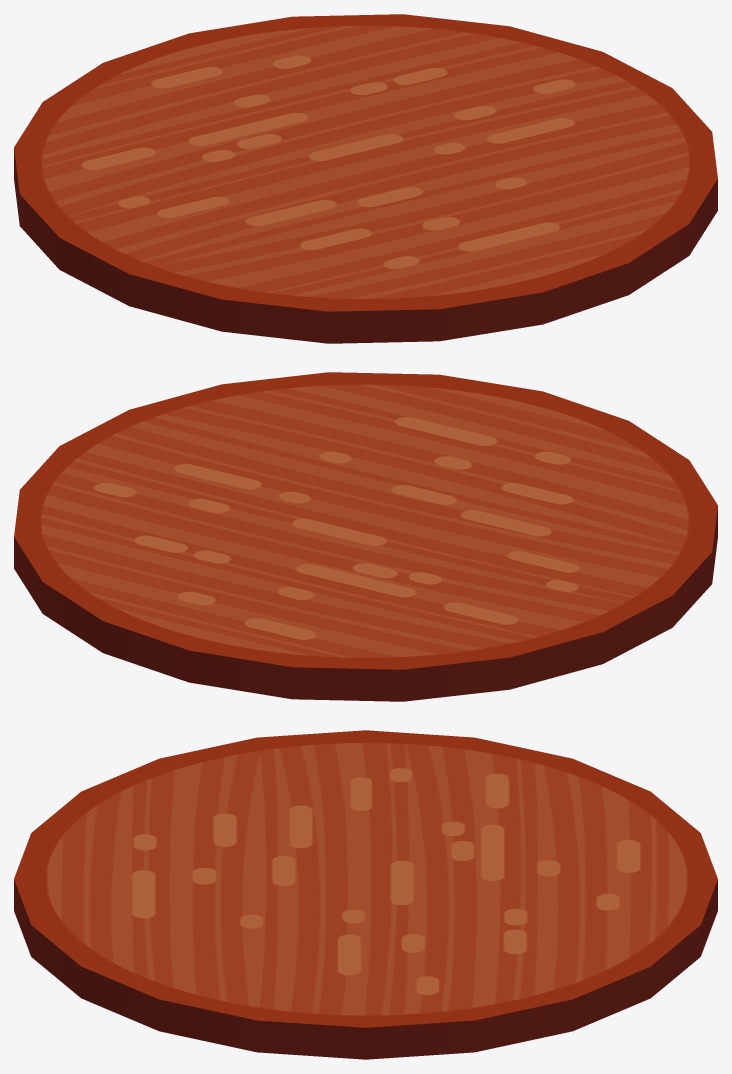
File: Roast_Slice_Roast_0.glb
3 renders of one model, top to bottom at view 1: azimuth 30°, elevation 25°; view 2: azimuth 150°, elevation 25°; view 3: azimuth 270°, elevation 25°, orthographic.
Parts seen in each view (by area): view 1: Roast_Slice_Roast_0; view 2: Roast_Slice_Roast_0; view 3: Roast_Slice_Roast_0.
Boxes of the visible parts, x1=… form: Roast_Slice_Roast_0: x1=14, y1=14, x2=717, y2=343; Roast_Slice_Roast_0: x1=14, y1=372, x2=717, y2=701; Roast_Slice_Roast_0: x1=14, y1=730, x2=717, y2=1059.
Size of the model in its own units: 0.2 by 0.01 by 0.2.
1 material, 1 textured.
